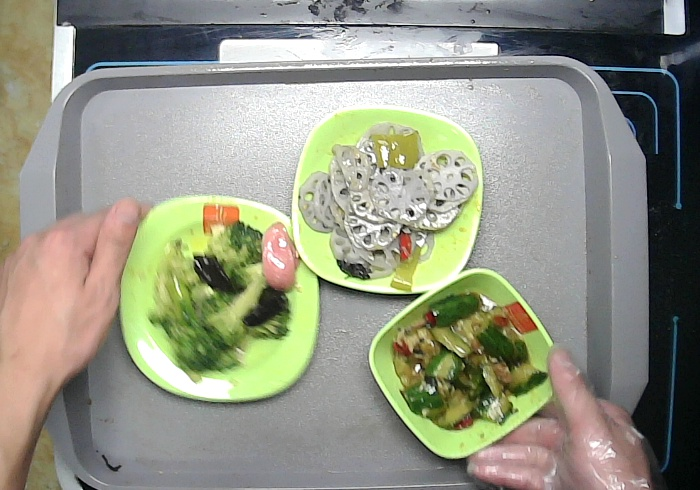SHKJ-Lv_Se_Cai_Die: (293, 104, 486, 303)
SHKJ-Lv_Se_Si_Fang_Cai_Die: (119, 196, 321, 402)
SHKJ-Lv_Se_Xiao_Fang_Die: (368, 265, 567, 461)
